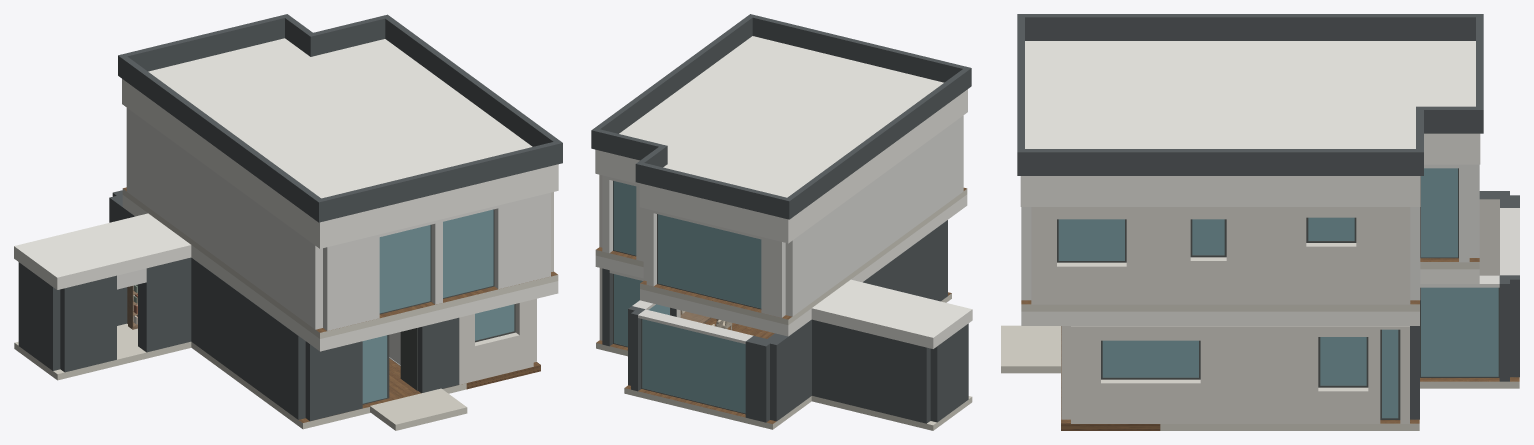
3 renders of one model, left to right at view 1: azimuth 30°, elevation 25°; view 2: azimuth 150°, elevation 25°; view 3: azimuth 270°, elevation 25°, orthographic. The views are drawn at different scales.
Visible parts, largest first — view 1: compact-roof-main, upper/east/end, ground/east/end, store-roof, roof-edge-0, roof-edge-5, ground/store-front/end, upper/front/end, upper/front/pier-0, roof-edge-1, ground/store-front/pier-0, ground/entrance/end (+25 smaller); view 2: compact-roof-main, upper/east/end, ground/store-rear/end, upper/primary-rear/glass-0, ground/living-rear/glass-0, ground/east/end, store-roof, compact-roof-rear, roof-edge-0, roof-edge-5, roof-edge-1, roof-edge-4 (+22 smaller); view 3: compact-roof-main, roof-edge-5, ground/kitchen-view/dining-pier, roof-edge-1, upper/view-side/bathroom-pier, ground/living-west/glass-0, upper/view-side/laundry-pier, ground-ceiling-0, compact-roof-rear, upper/view-side/end, ground/kitchen-view/sink-sill, ground/kitchen-view/sink/glass (+39 smaller).
Part boxes in pixels (x1,y1,x2,y2): compact-roof-main: [148, 39, 558, 248]; upper/east/end: [126, 108, 322, 329]; ground/east/end: [109, 194, 305, 419]; store-roof: [14, 213, 191, 289]; roof-edge-0: [315, 140, 562, 222]; roof-edge-5: [118, 54, 324, 222]; ground/store-front/end: [60, 275, 116, 372]; upper/front/end: [323, 234, 379, 330]; upper/front/pier-0: [494, 192, 550, 289]; roof-edge-1: [382, 15, 562, 164]; ground/store-front/pier-0: [138, 257, 191, 352]; ground/entrance/end: [305, 341, 362, 421]; compact-roof-main: [595, 36, 967, 225]; upper/east/end: [785, 115, 963, 316]; ground/store-rear/end: [812, 319, 930, 423]; upper/primary-rear/glass-0: [658, 214, 761, 308]; ground/living-rear/glass-0: [642, 319, 745, 413]; ground/east/end: [764, 220, 947, 421]; store-roof: [811, 279, 972, 348]; compact-roof-rear: [639, 165, 811, 243]; roof-edge-0: [748, 14, 971, 87]; roof-edge-5: [784, 68, 971, 218]; roof-edge-1: [591, 14, 754, 149]; roof-edge-4: [635, 161, 792, 219]; compact-roof-main: [1020, 41, 1420, 206]; roof-edge-5: [1017, 14, 1483, 40]; ground/kitchen-view/dining-pier: [1200, 326, 1318, 423]; roof-edge-1: [1017, 149, 1423, 175]; upper/view-side/bathroom-pier: [1226, 207, 1306, 304]; ground/living-west/glass-0: [1421, 287, 1498, 376]; upper/view-side/laundry-pier: [1126, 207, 1190, 304]; ground-ceiling-0: [1021, 311, 1419, 325]; compact-roof-rear: [1420, 41, 1480, 164]; upper/view-side/end: [1356, 207, 1410, 304]; ground/kitchen-view/sink-sill: [1101, 379, 1200, 423]; ground/kitchen-view/sink/glass: [1102, 340, 1198, 377].
Size of the model in its own units: 12.61 by 7.75 by 13.
68 materials, 2 textured.
